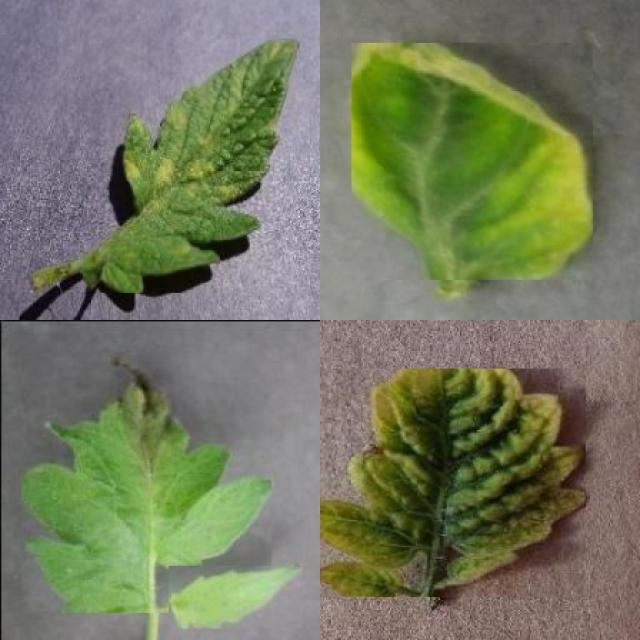Healthy: (169, 566, 302, 628)
Late Blight: (22, 353, 272, 613)
Leaf Mold: (83, 38, 298, 293)
Yellow Leaf Curl Virus: (320, 369, 586, 597), (351, 42, 593, 280)
